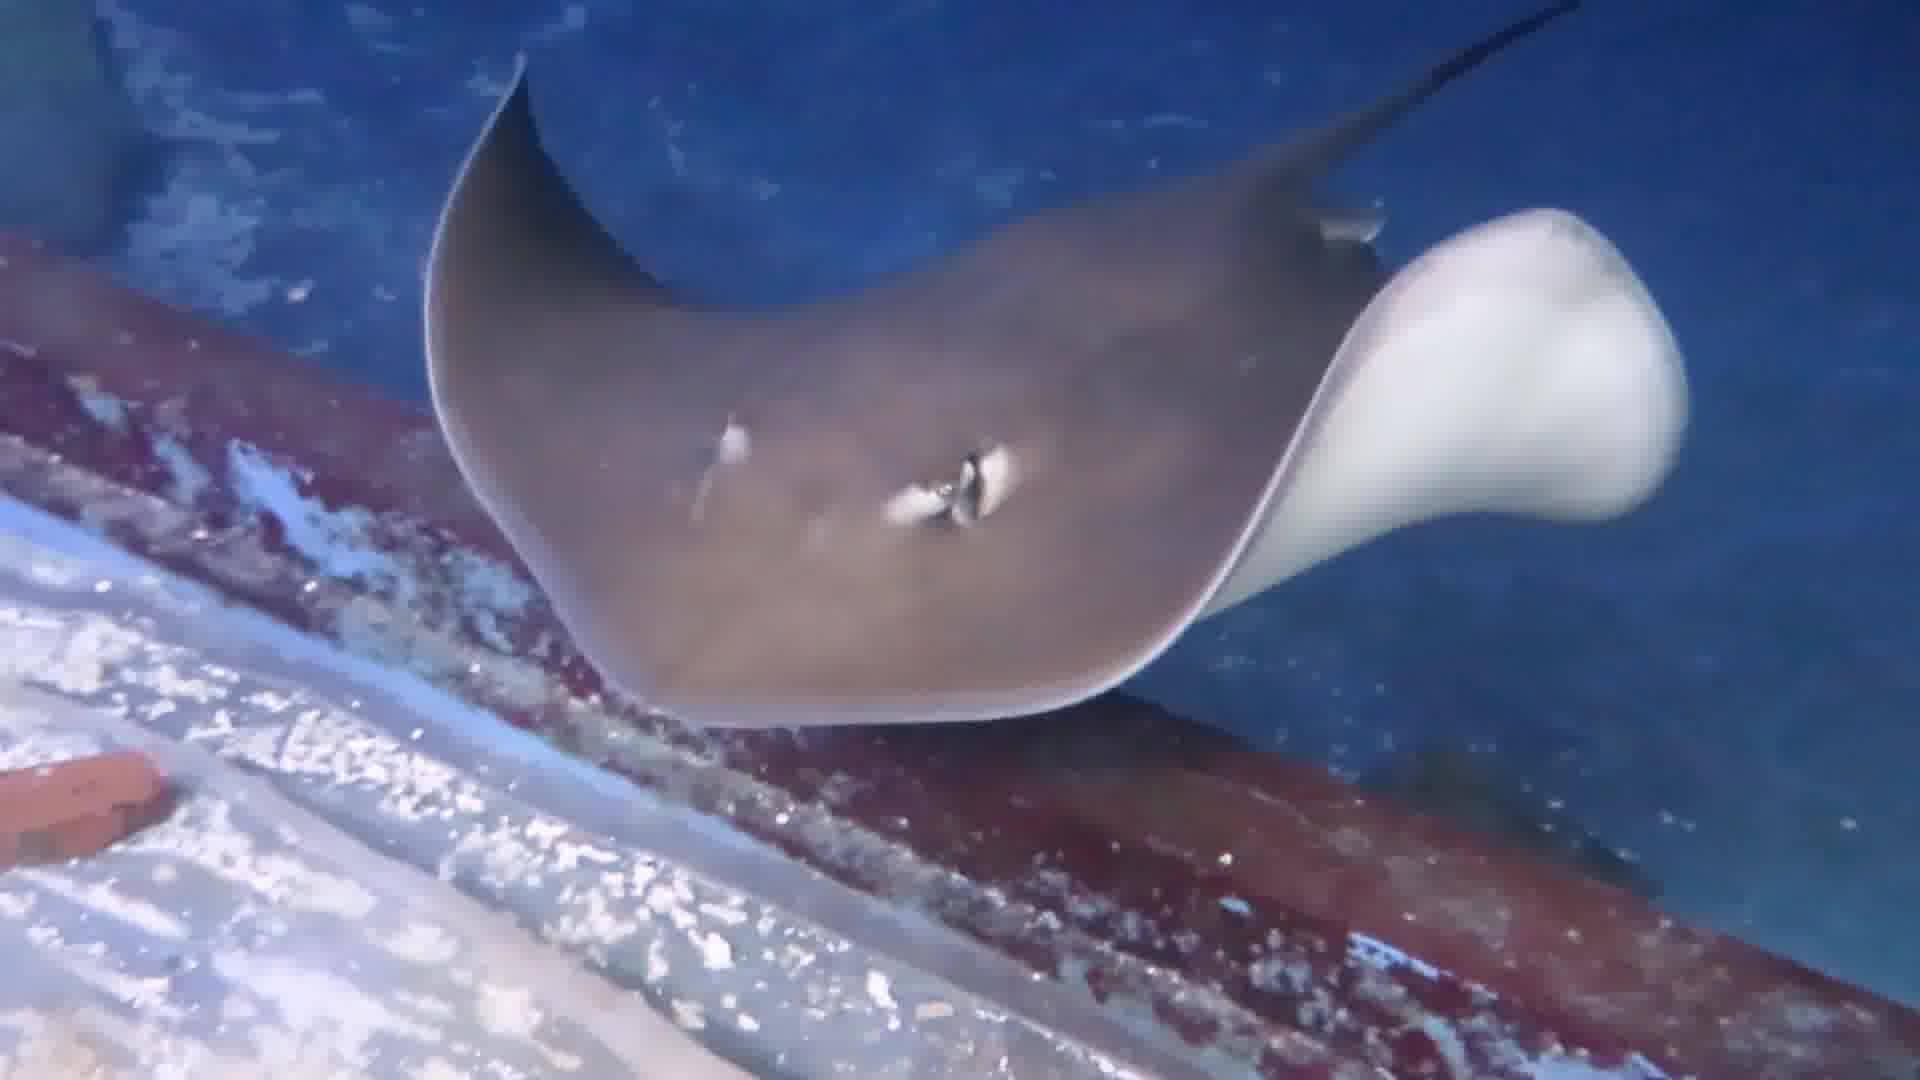Dasyatis akajei: (388, 1, 1710, 771)
